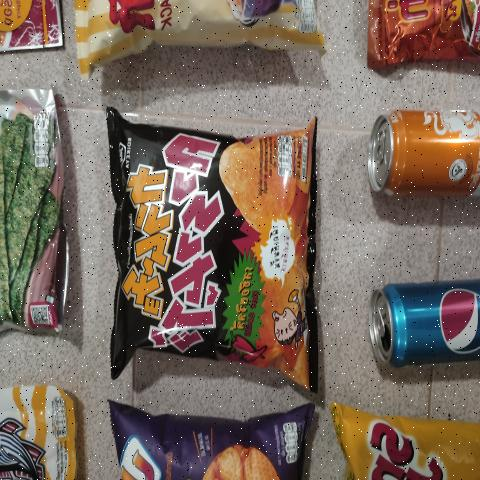karamujo: (113, 130, 314, 367)
